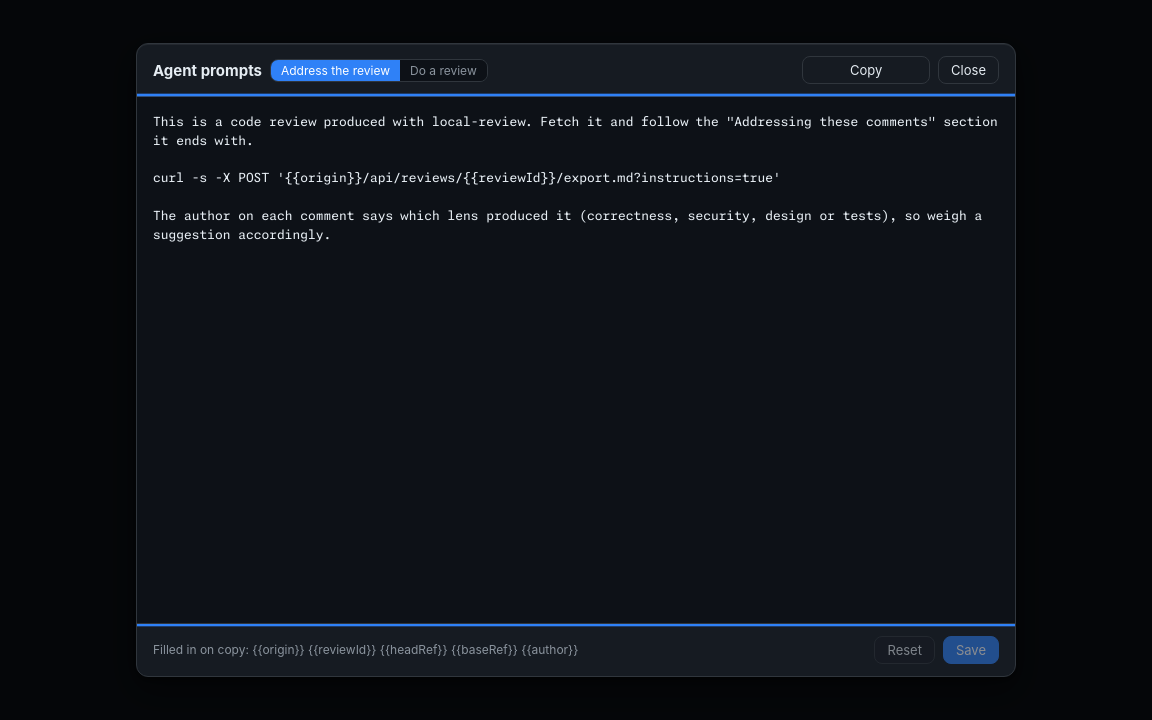
it: correctness still reads the original `review` key
This screenshot has width=1152, height=720.
Click the button "Do a review" at (443, 70), box x1=400 y1=60 x2=487 y2=81
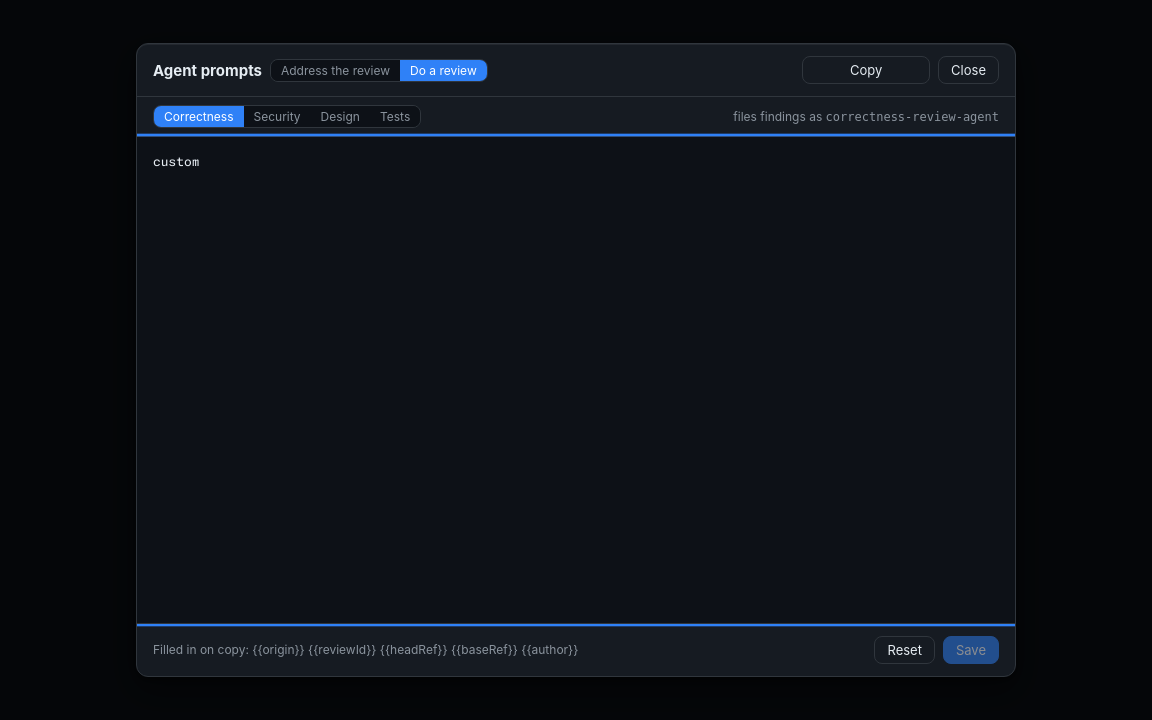
Now the text box holds "custom", box x1=137 y1=137 x2=1015 y2=623
